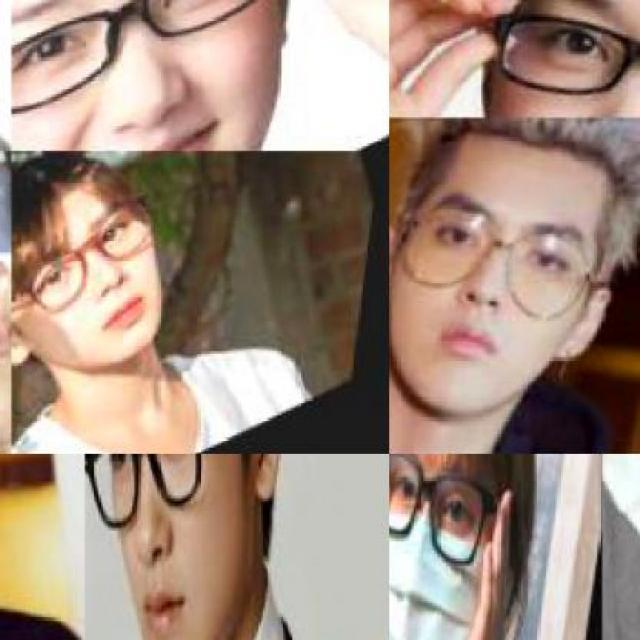glasses: (11, 0, 314, 114), (389, 189, 606, 325), (472, 5, 639, 116), (11, 196, 162, 312), (389, 454, 497, 565), (85, 454, 211, 521)
